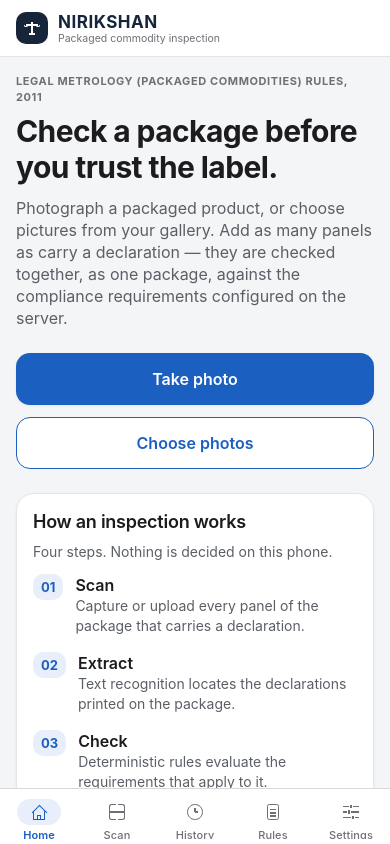
Test: the tab bar › opens Scan when its tab is pressed
The width and height of the screenshot is (390, 844).
Click the tab with test id "tab-scan". click: click(112, 807)
box: x1=104 y1=804 x2=130 y2=842
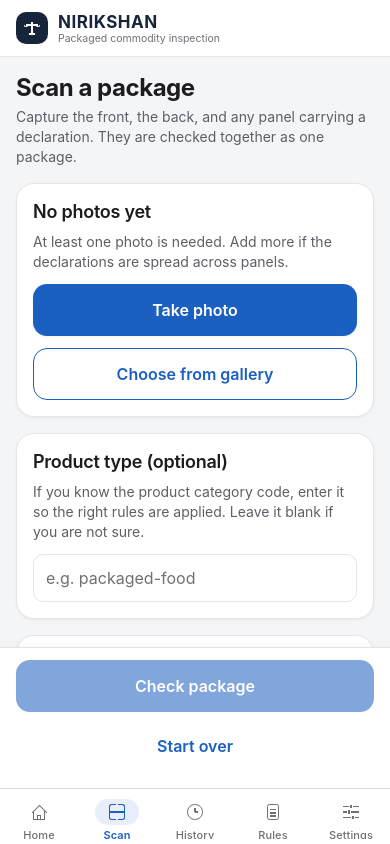
Check: the element with test id "scan-screen" is shown
